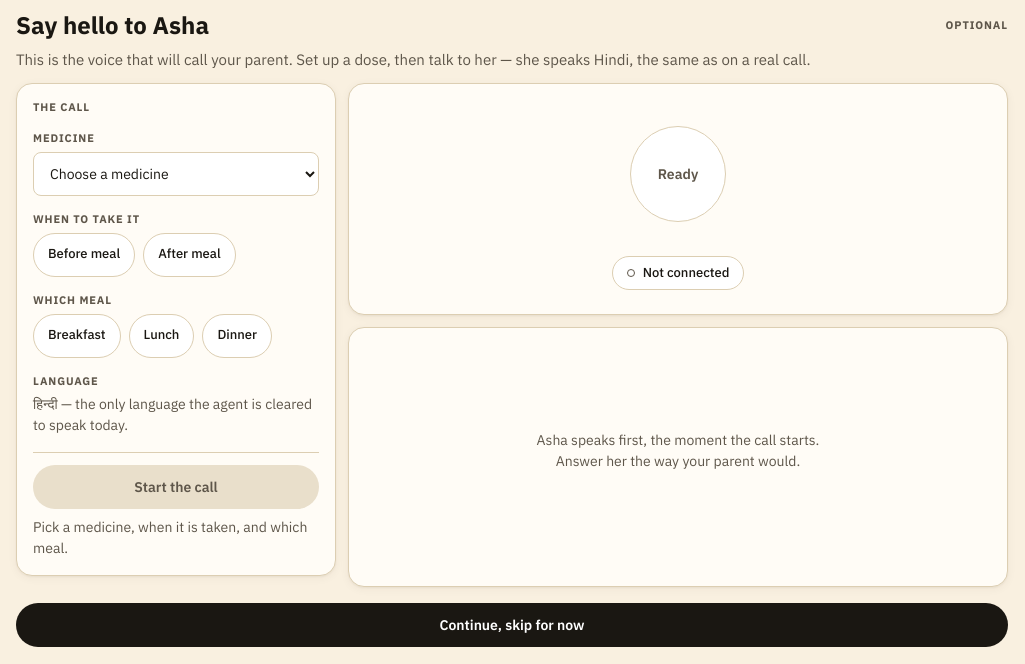
Test: Meet — the call configuration rail › locks every control while the call is running, and frees them after
The image size is (1025, 664).
Select "Metformin" in the dropdown named "Medicine" at (176, 174), box [33,152,319,196]
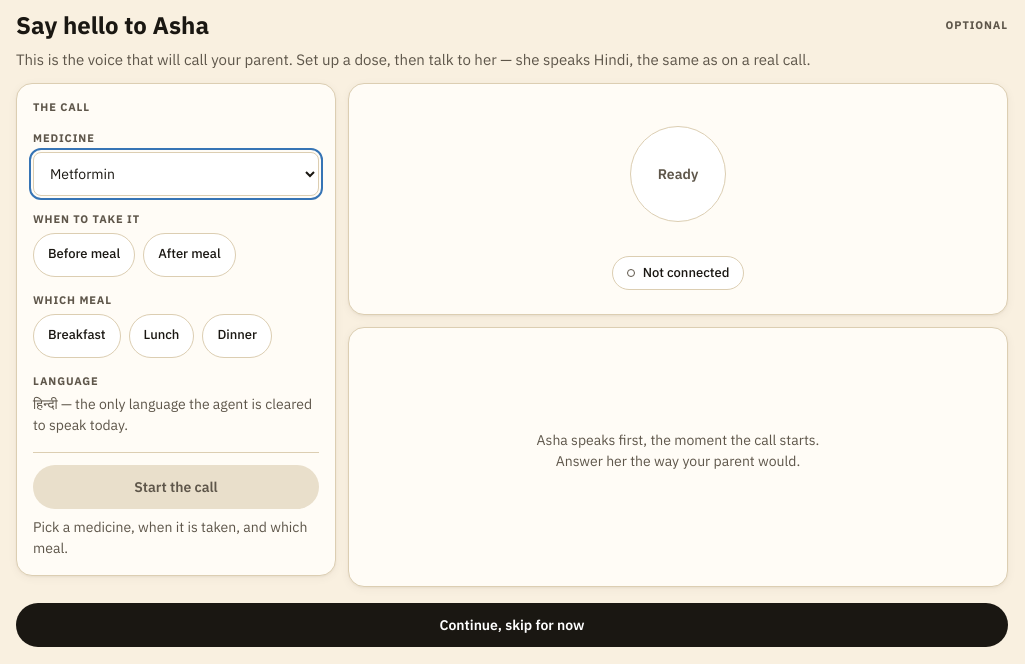
Click the button "After meal" at (189, 255), box [143,233,236,277]
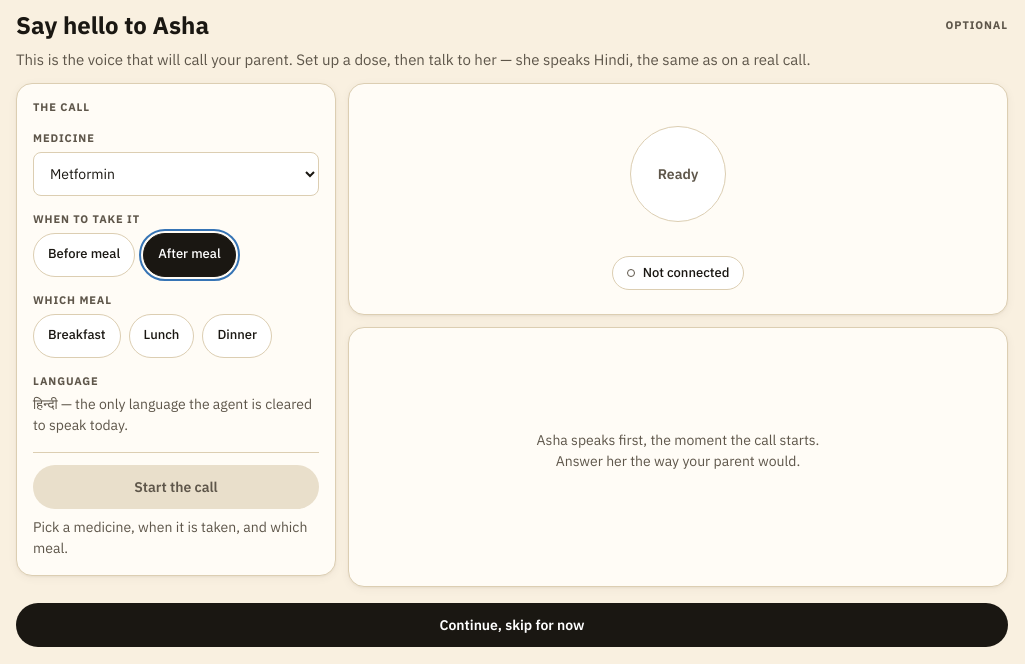
Click the button "Lunch" at (162, 336), box [129,314,194,358]
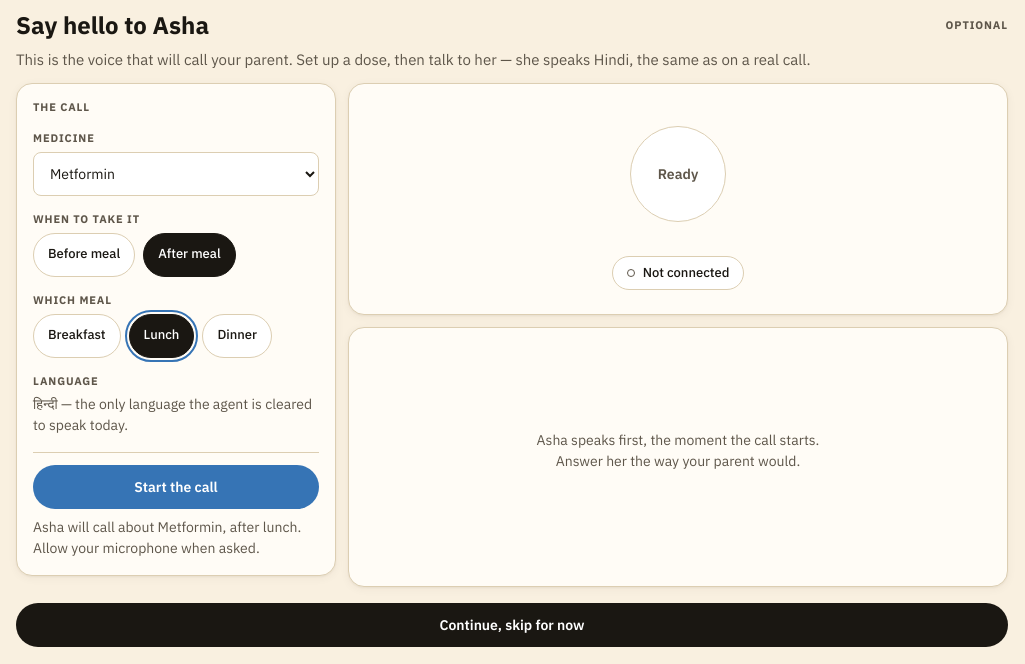
Click the button "Start the call" at (176, 488), box [33,466,319,510]
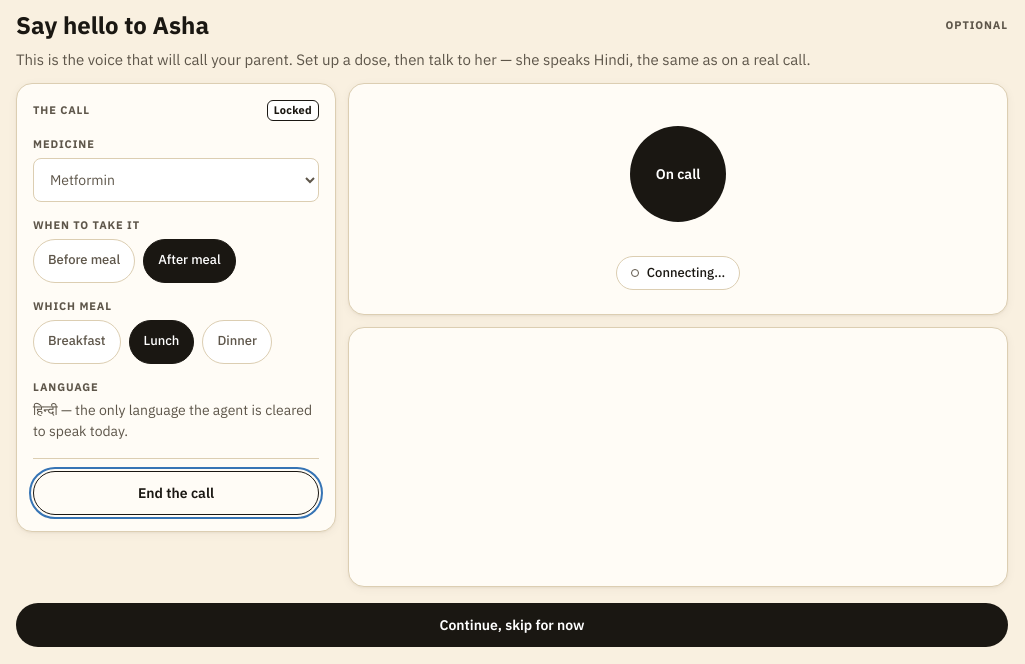
Check: the dropdown named "Medicine" is disabled, box [33,158,319,202]
Check: the button "Before meal" is disabled, box [33,239,135,283]
Check: the button "Dinner" is disabled, box [202,320,272,364]
Click the button "End the call" at (176, 494), box [33,472,319,516]
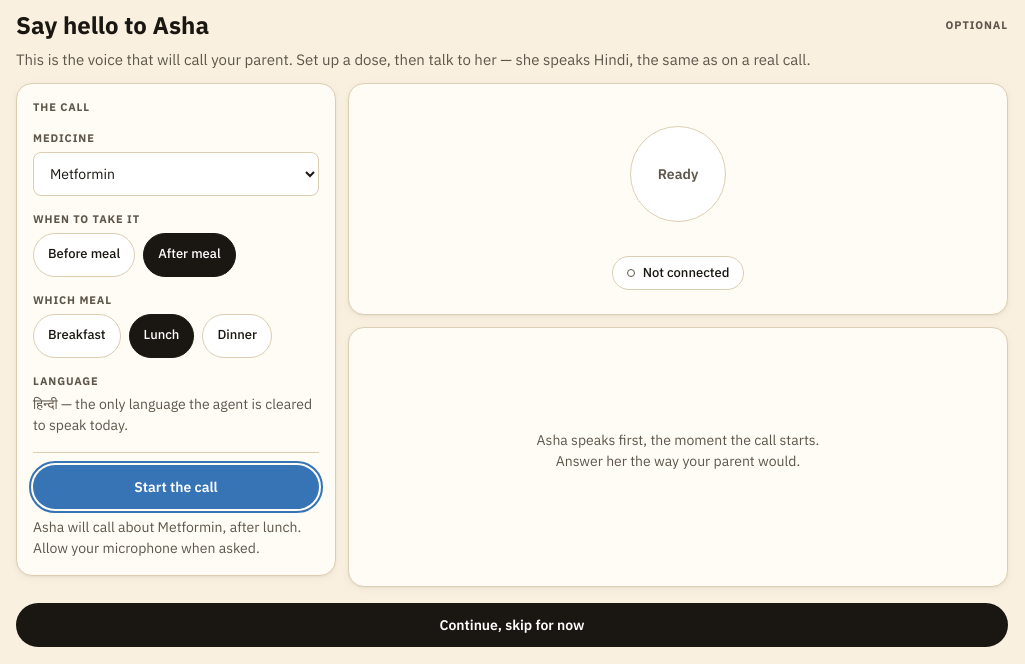
Check: the button "Start the call" is enabled, box [33,466,319,510]
Check: the dropdown named "Medicine" is enabled, box [33,152,319,196]
Check: the button "Dinner" is enabled, box [202,314,272,358]
